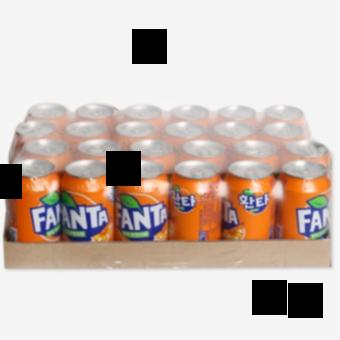fanta_orange: (68, 163, 111, 244)
